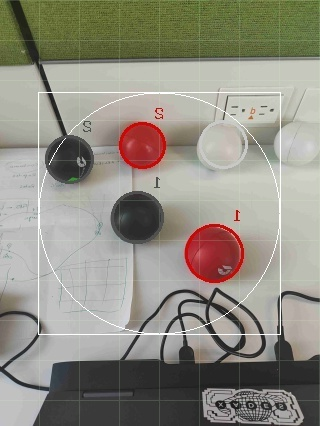Pelota blanca: (276, 289, 320, 363), (0, 310, 41, 389), (197, 118, 249, 171), (274, 118, 320, 168)
Pelota negra: (109, 190, 167, 246), (45, 134, 95, 184)
Pelota roja: (183, 222, 246, 283), (119, 121, 169, 171)
